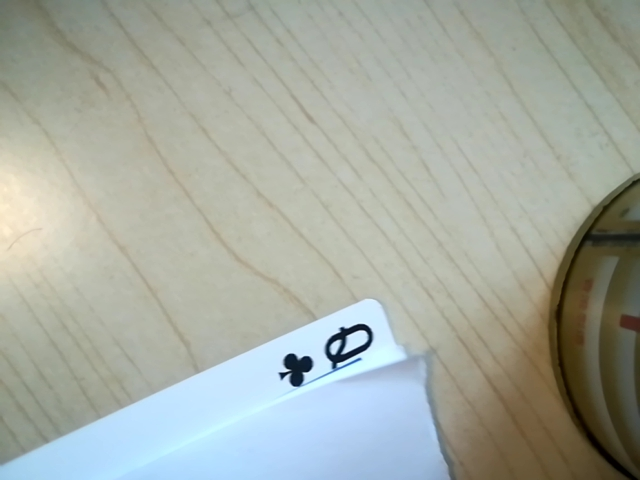mh q: (266, 314, 395, 395)
